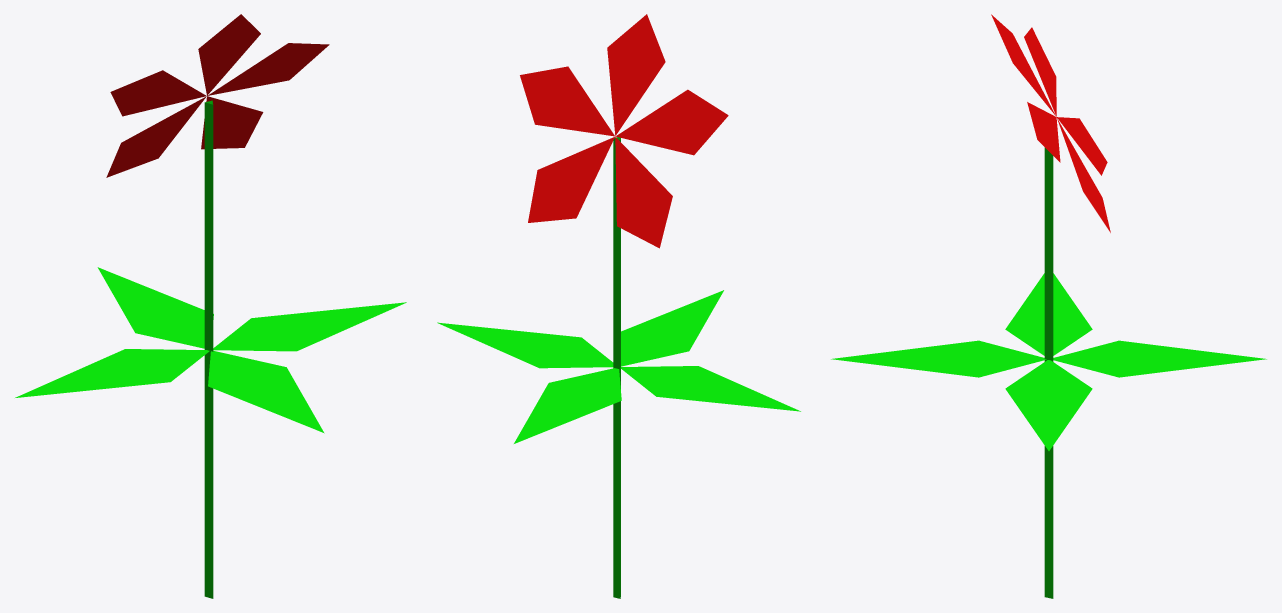
File: Flower 2.obj
3 views of the same model, side by side, from view 1: azimuth 30°, elevation 25°; view 2: azimuth 150°, elevation 25°; view 3: azimuth 270°, elevation 25° (orthographic). The views are drawn at different scales.
Parts seen in each view (by area): view 1: leaves, petals, stem; view 2: petals, leaves, stem; view 3: leaves, petals, stem.
Part boxes in pixels (left/top/right/bottom): leaves: left=15, top=267, right=406, bottom=433; petals: left=106, top=14, right=329, bottom=177; stem: left=204, top=100, right=213, bottom=598; petals: left=520, top=14, right=728, bottom=248; leaves: left=437, top=290, right=800, bottom=443; stem: left=613, top=137, right=620, bottom=598; leaves: left=831, top=273, right=1266, bottom=450; petals: left=991, top=14, right=1110, bottom=232; stem: left=1044, top=147, right=1053, bottom=598.
Bounding box in the file's own units: 5 × 7.35 × 5.
